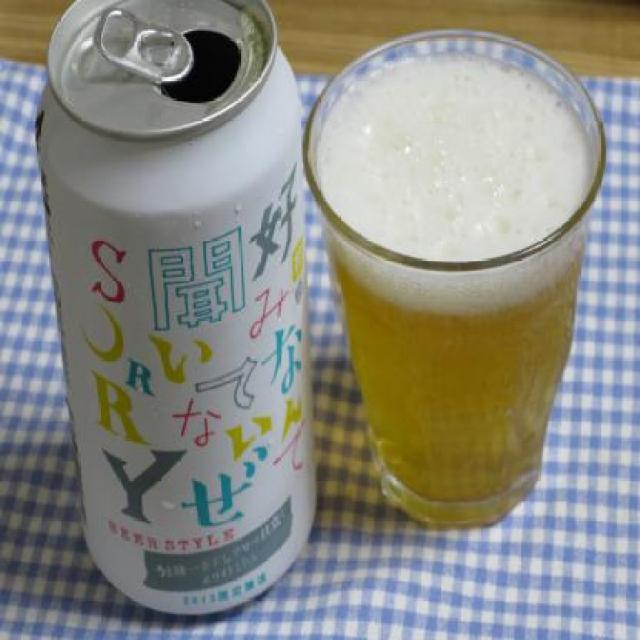Juice: (317, 44, 591, 502)
